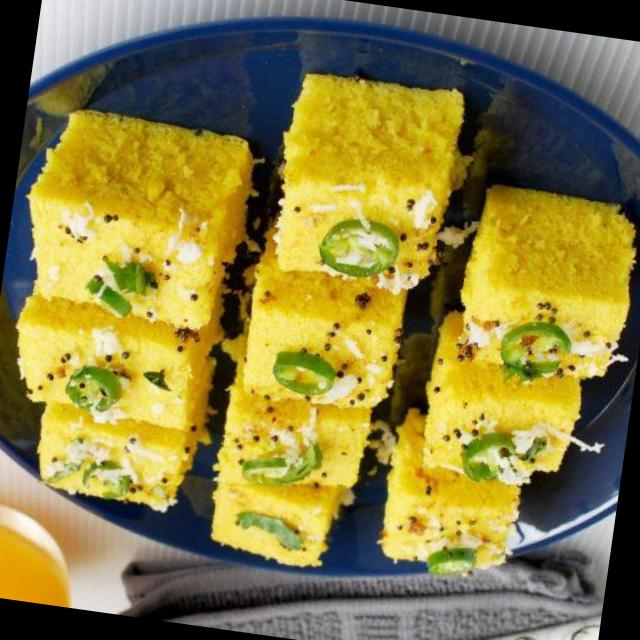dhokla: (2, 21, 640, 612)
